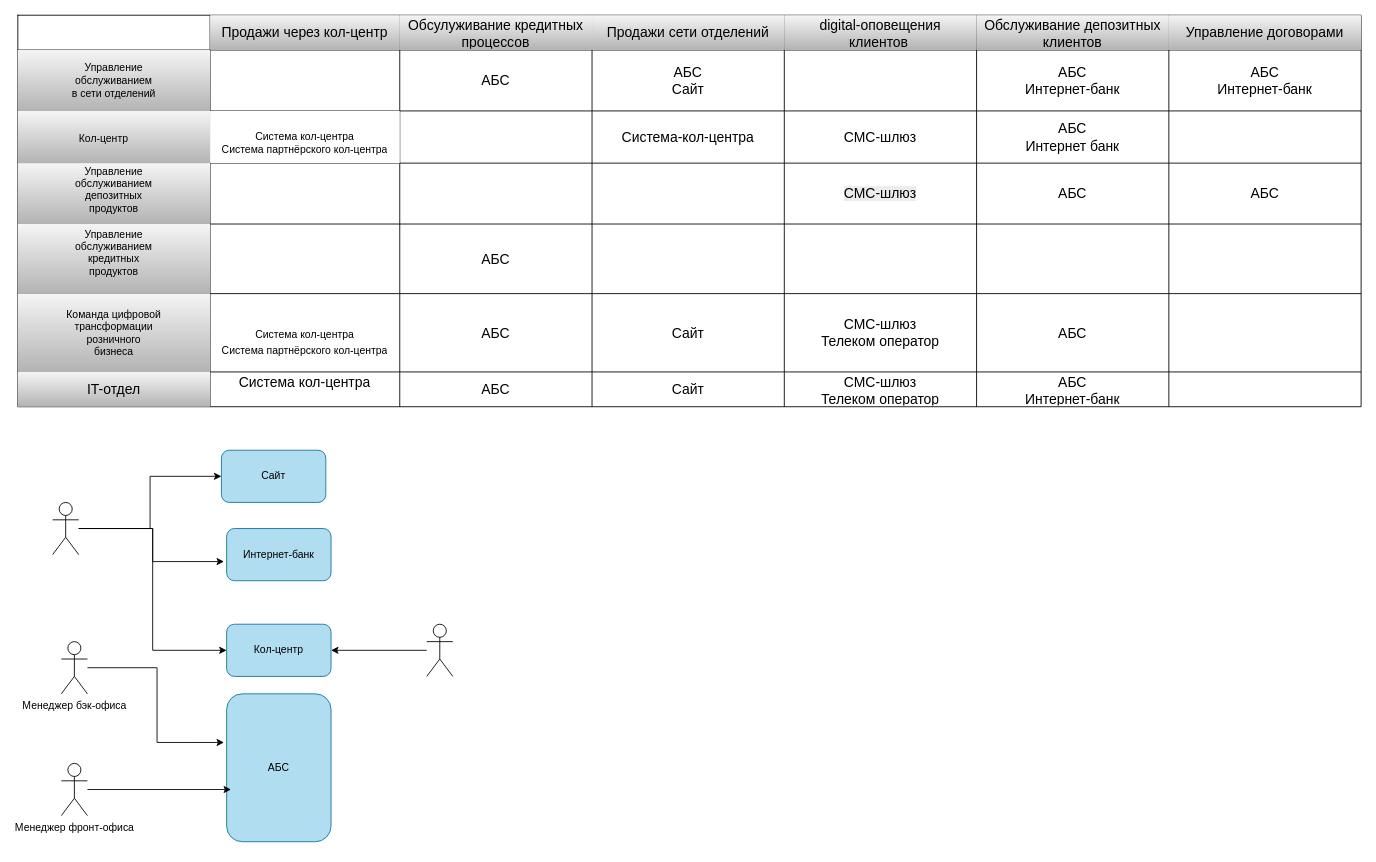
This 1376x862 diagram has some shape labels left out. The shapes that lost their labels are listed below. From the top down, each one's box as (x1, y1, x2, y2) in pixels, then its label:
(52, 502, 79, 555): Клиент
(426, 623, 453, 676): Оператор
